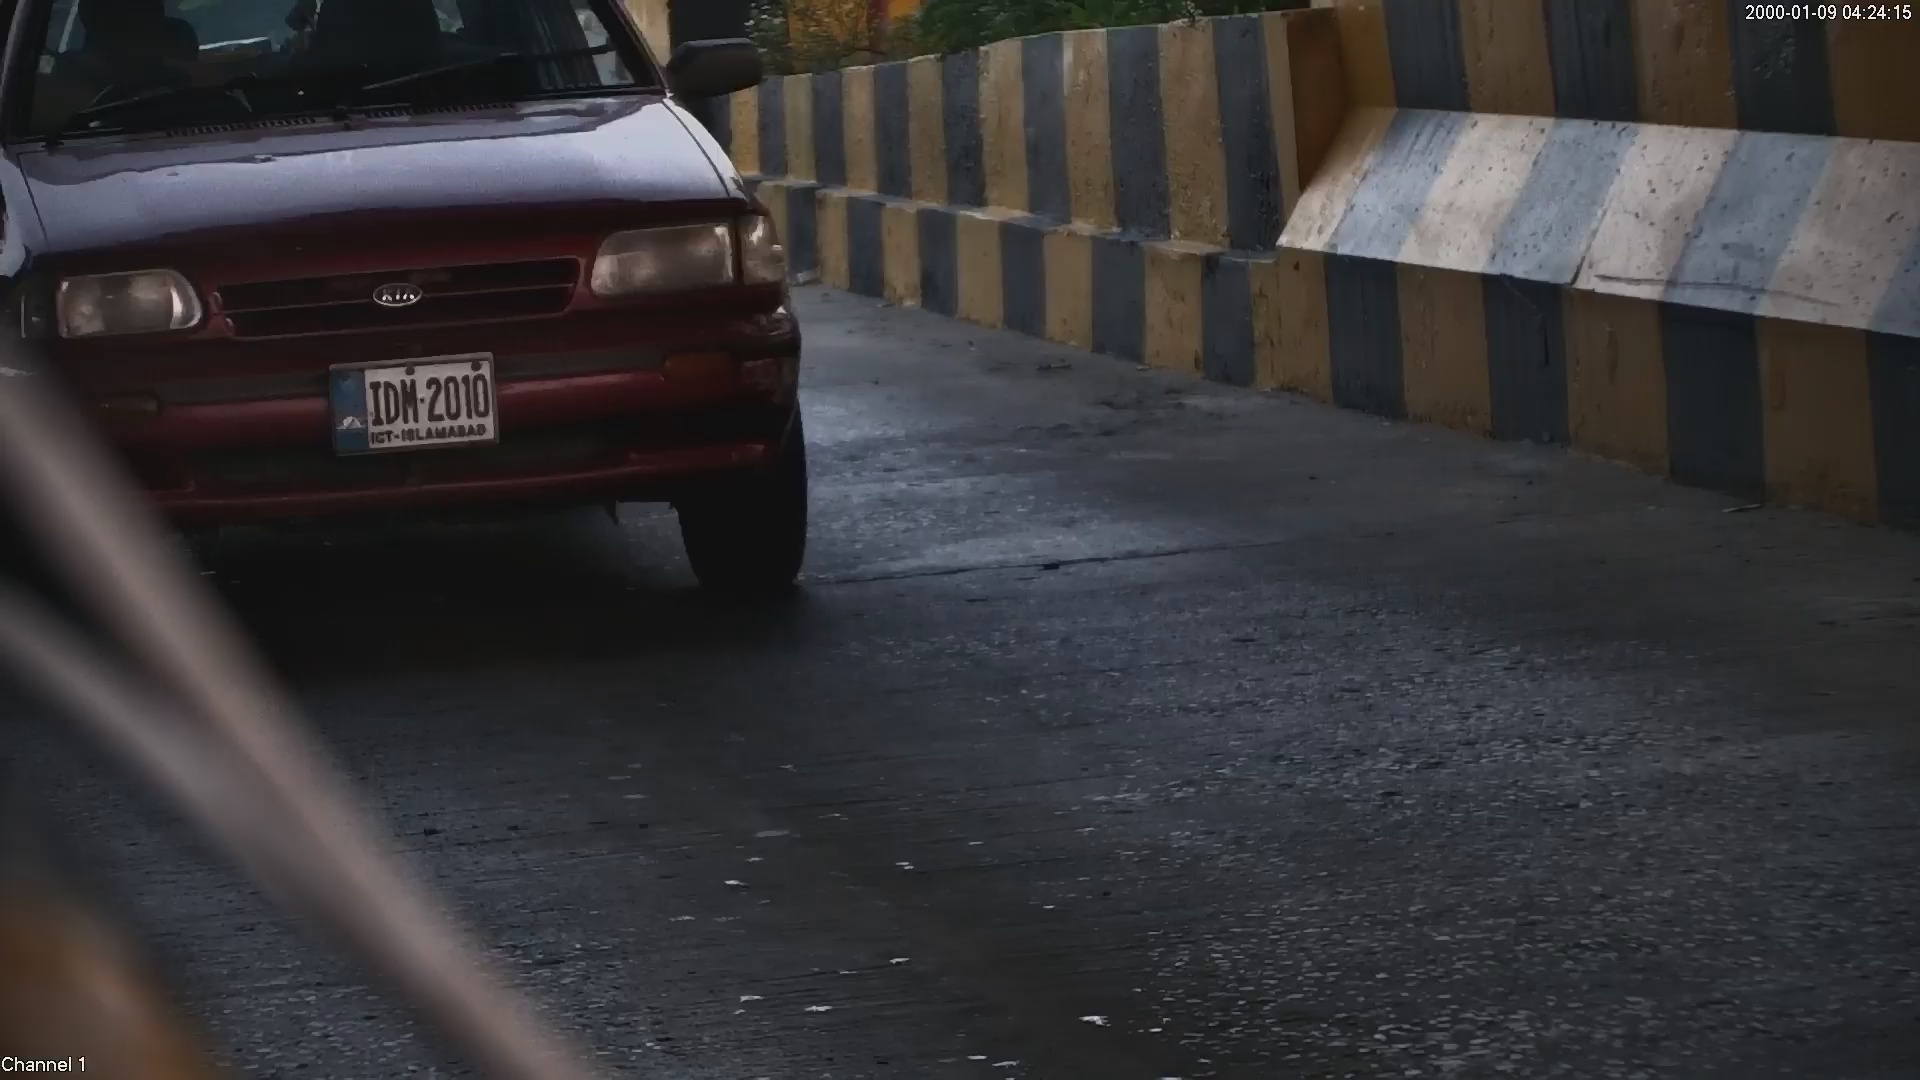Number_Plate: (313, 349, 510, 459)
